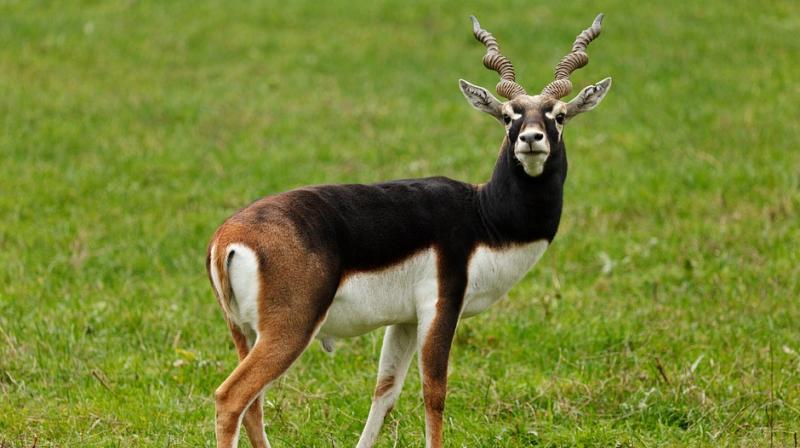Blackbuck: (205, 12, 614, 448)
